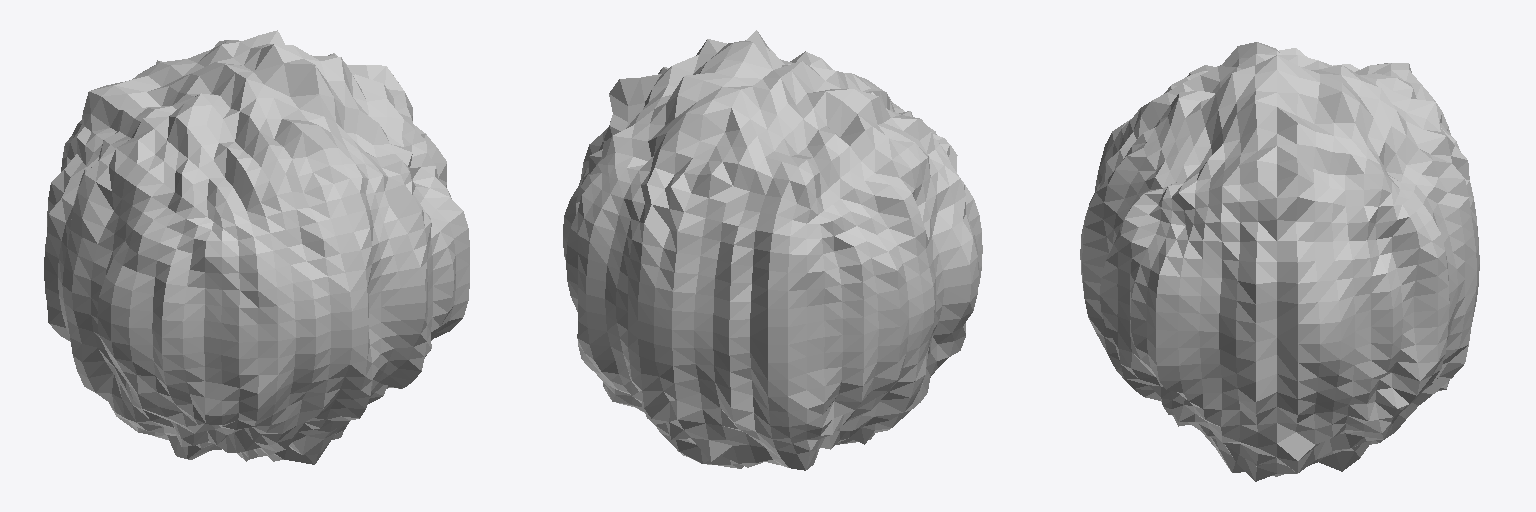
File: asteroid78.obj
3 renders of one model, left to right at view 1: azimuth 30°, elevation 25°; view 2: azimuth 150°, elevation 25°; view 3: azimuth 270°, elevation 25°, orthographic.
Visible parts, largest first — view 1: Cube_Cube.002; view 2: Cube_Cube.002; view 3: Cube_Cube.002.
Boxes of the visible parts, <box> form: Cube_Cube.002: <box>44,30,469,464</box>; Cube_Cube.002: <box>563,30,982,470</box>; Cube_Cube.002: <box>1080,42,1479,481</box>.
Size of the model in its own units: 1.8 by 1.99 by 1.72.